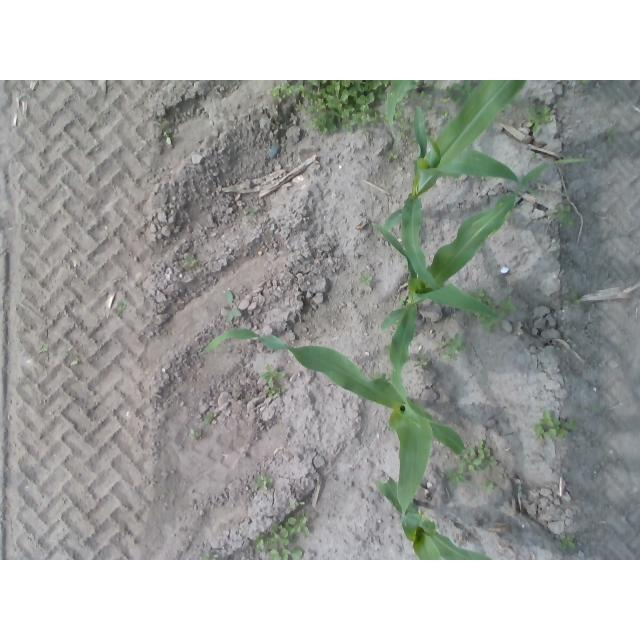Maize: (206, 300, 467, 511), (381, 162, 595, 329), (401, 81, 526, 199), (377, 478, 504, 559)
Weeds: (270, 80, 387, 132), (252, 516, 317, 560), (475, 285, 513, 332), (533, 409, 576, 442), (460, 439, 501, 472), (439, 80, 477, 108), (525, 105, 555, 135), (440, 333, 467, 363), (259, 363, 290, 389), (551, 197, 579, 224), (222, 290, 239, 327), (449, 468, 471, 489), (254, 475, 279, 491), (39, 337, 53, 364), (115, 297, 133, 314), (607, 127, 622, 147), (180, 253, 197, 270), (482, 480, 498, 492), (362, 271, 374, 287), (203, 413, 217, 426), (563, 536, 576, 549), (188, 431, 204, 441), (247, 206, 259, 217)
